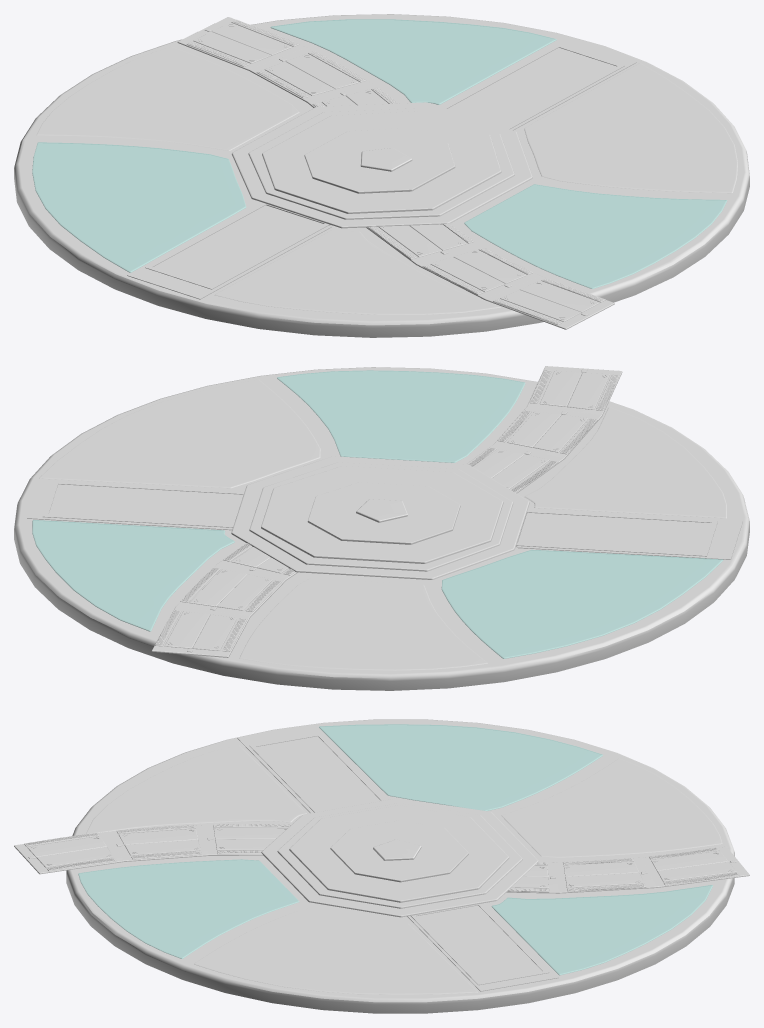
The model's file is grRoom_FLOOR.fbx.
The picture shows the model from 3 angles, top to bottom: view 1: azimuth 30°, elevation 25°; view 2: azimuth 150°, elevation 25°; view 3: azimuth 270°, elevation 25°; orthographic projection. The views are drawn at different scales.
Visible parts, largest first — view 1: polySurface10716; view 2: polySurface10716; view 3: polySurface10716.
Boxes of the visible parts, <box> form: polySurface10716: <box>14,14,749,337</box>; polySurface10716: <box>14,366,749,690</box>; polySurface10716: <box>14,719,749,1013</box>.
Bounding box in the file's own units: 4867 × 184 × 5359.
